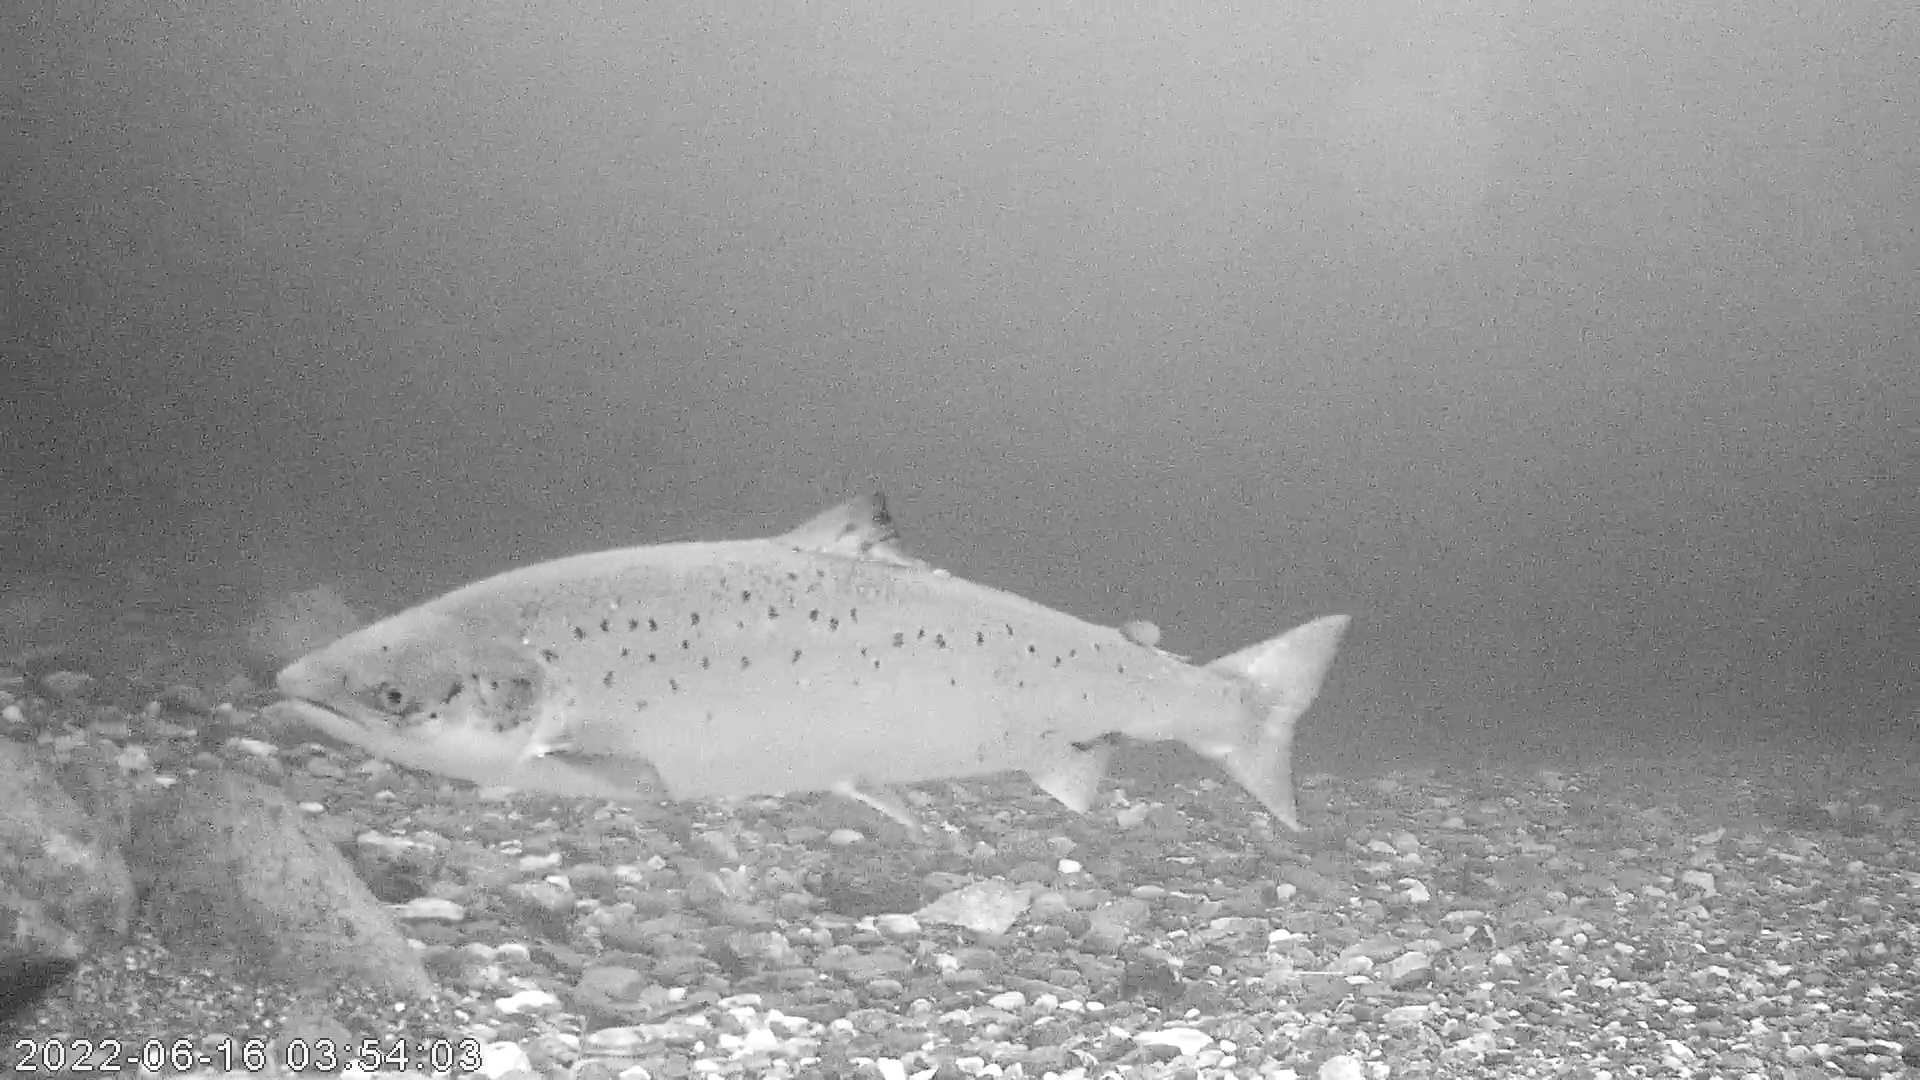salmon: (276, 484, 1352, 833)
